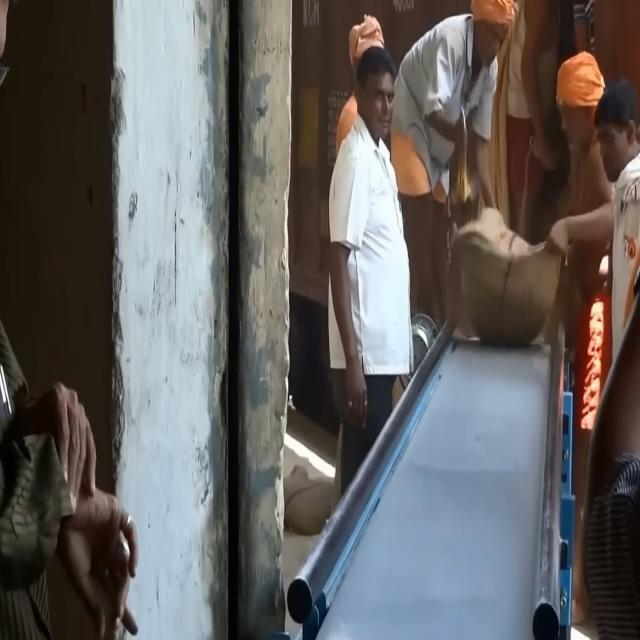gunny_bag: (448, 203, 570, 352)
